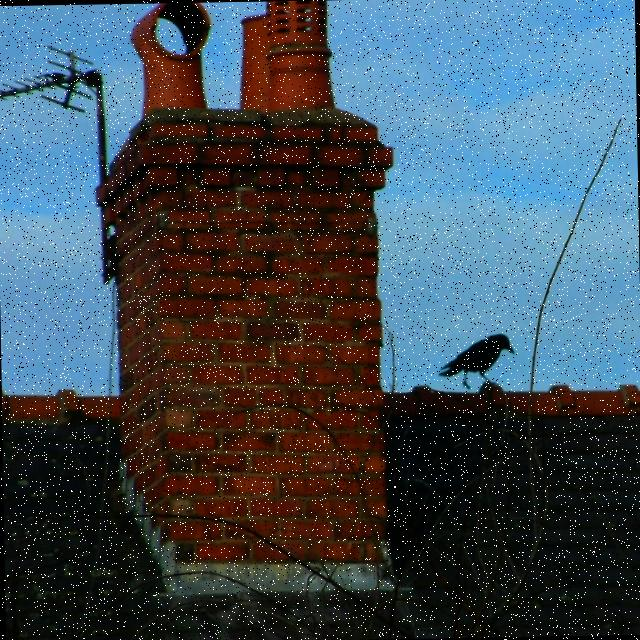bird: (436, 331, 516, 393)
